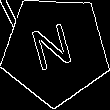N_S: (30, 20, 81, 80)
